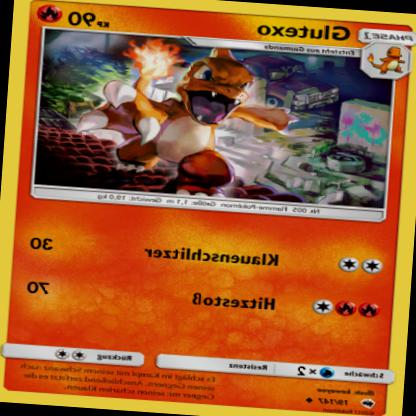Charmeleon: (74, 41, 304, 203)
